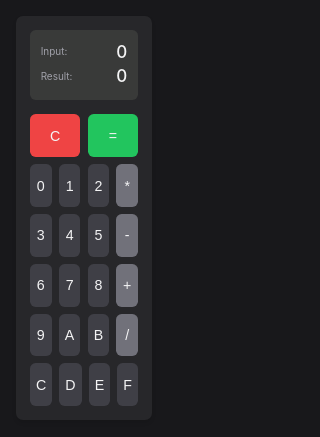
it: Calculator › limits input to hexadecimal characters (0-9, A-F)
Note: Input valid hex characters
Click the button "1": coordinates (70, 186) [59, 164, 80, 207]
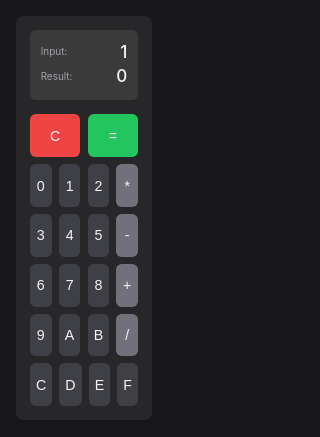
Click the button "A": coordinates (70, 335) [59, 314, 80, 356]
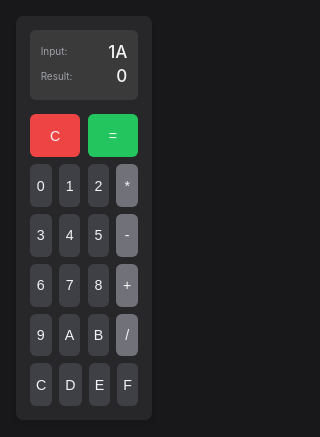
Now the text "0" reads "1A", box [108, 40, 127, 62]
